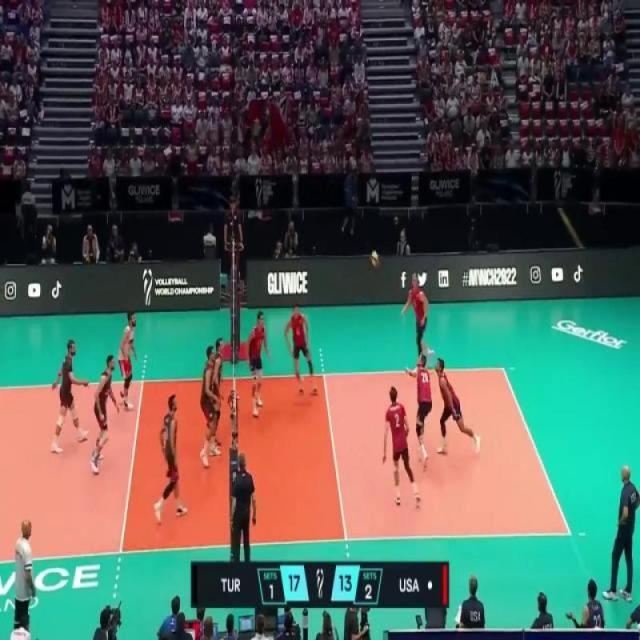volleyball: (368, 248, 382, 269), (390, 214, 400, 229)
